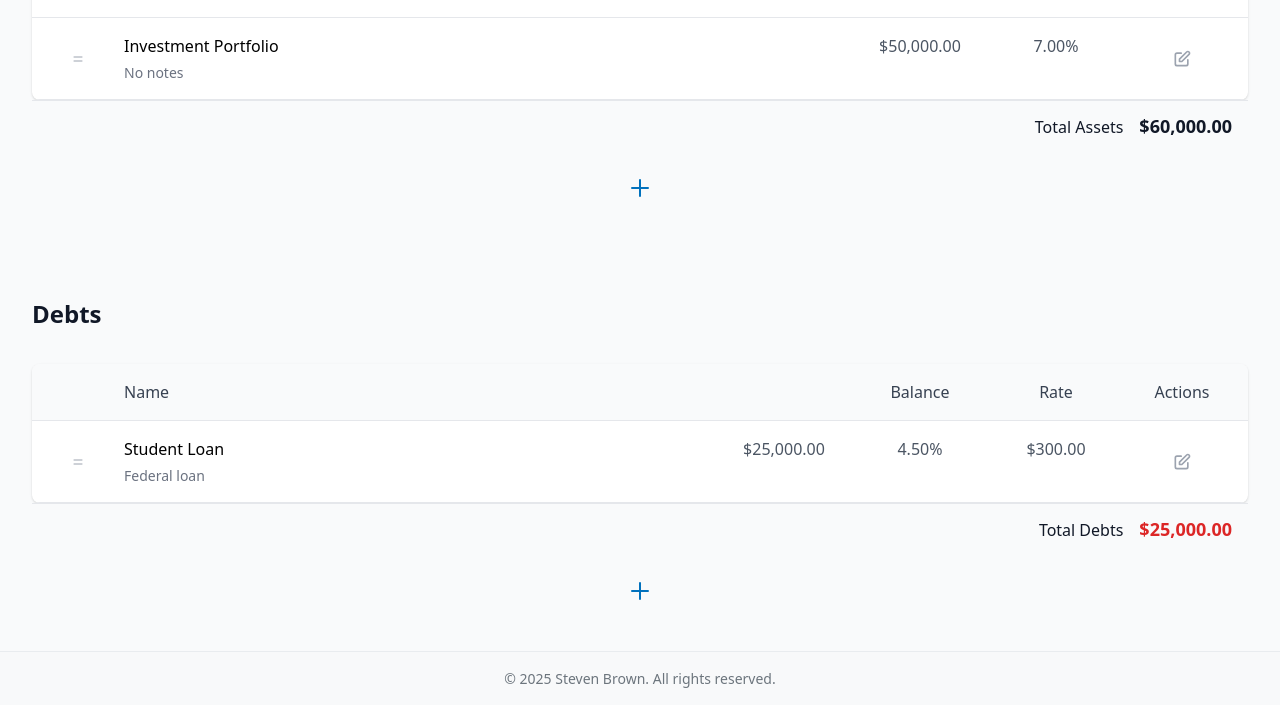
Scenario: Assets Component › Debt CRUD Operations › opens edit modal when clicking edit button on debt
(page scrolled)
Step 1. Click the button with test id "edit-debt-debt1" → {"x": 1182, "y": 462}, box [1164,437,1200,486]
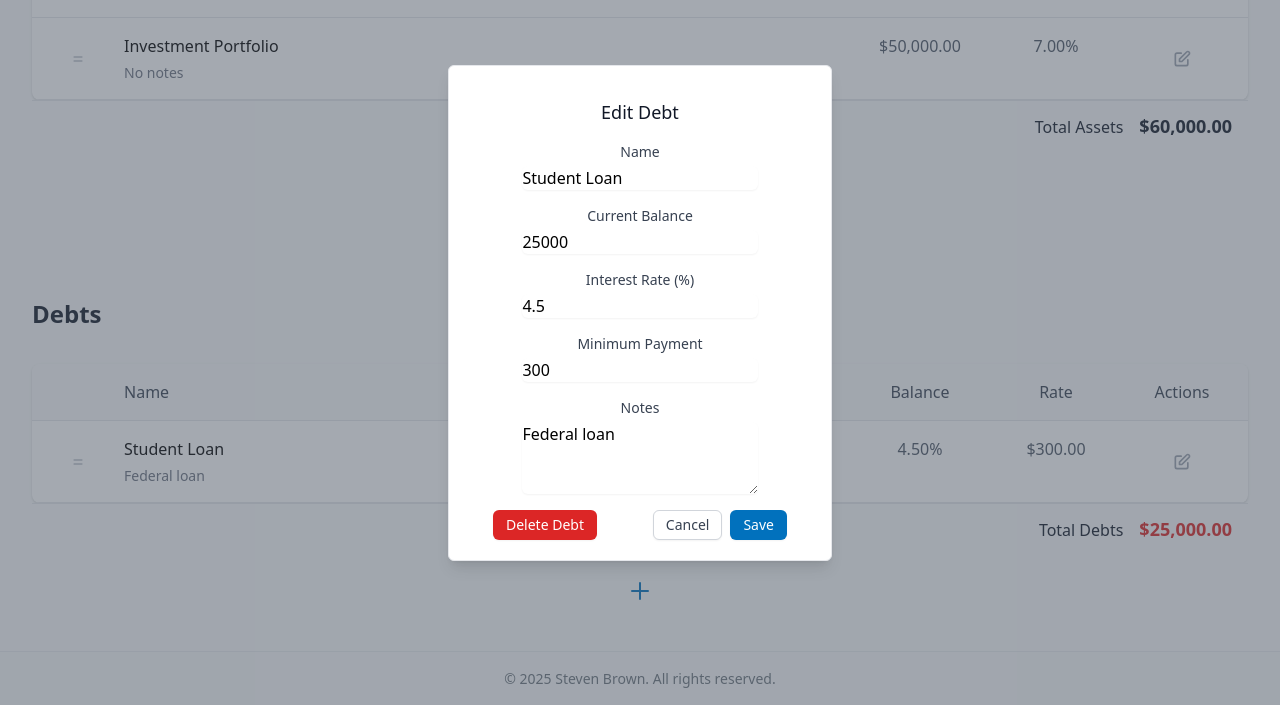
Expected: the heading "Edit Debt" is shown, [601,100,679,124]
Expected: the field showing "Student Loan" is shown, [522,166,758,190]
